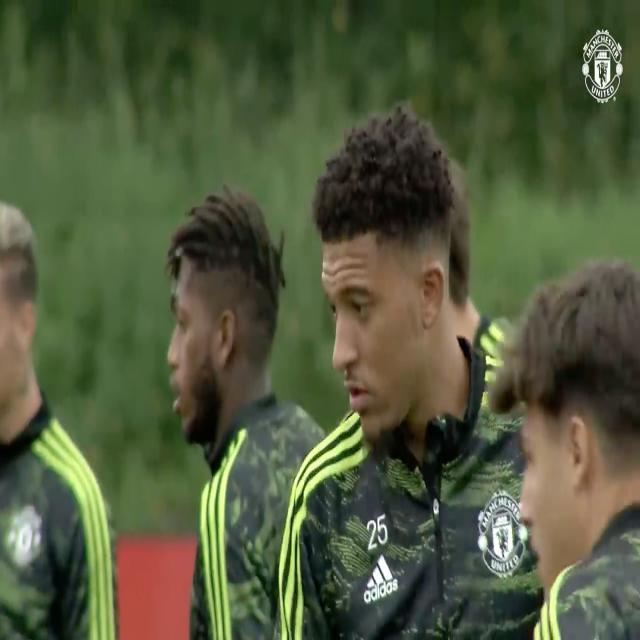Adidas: (363, 553, 400, 608)
